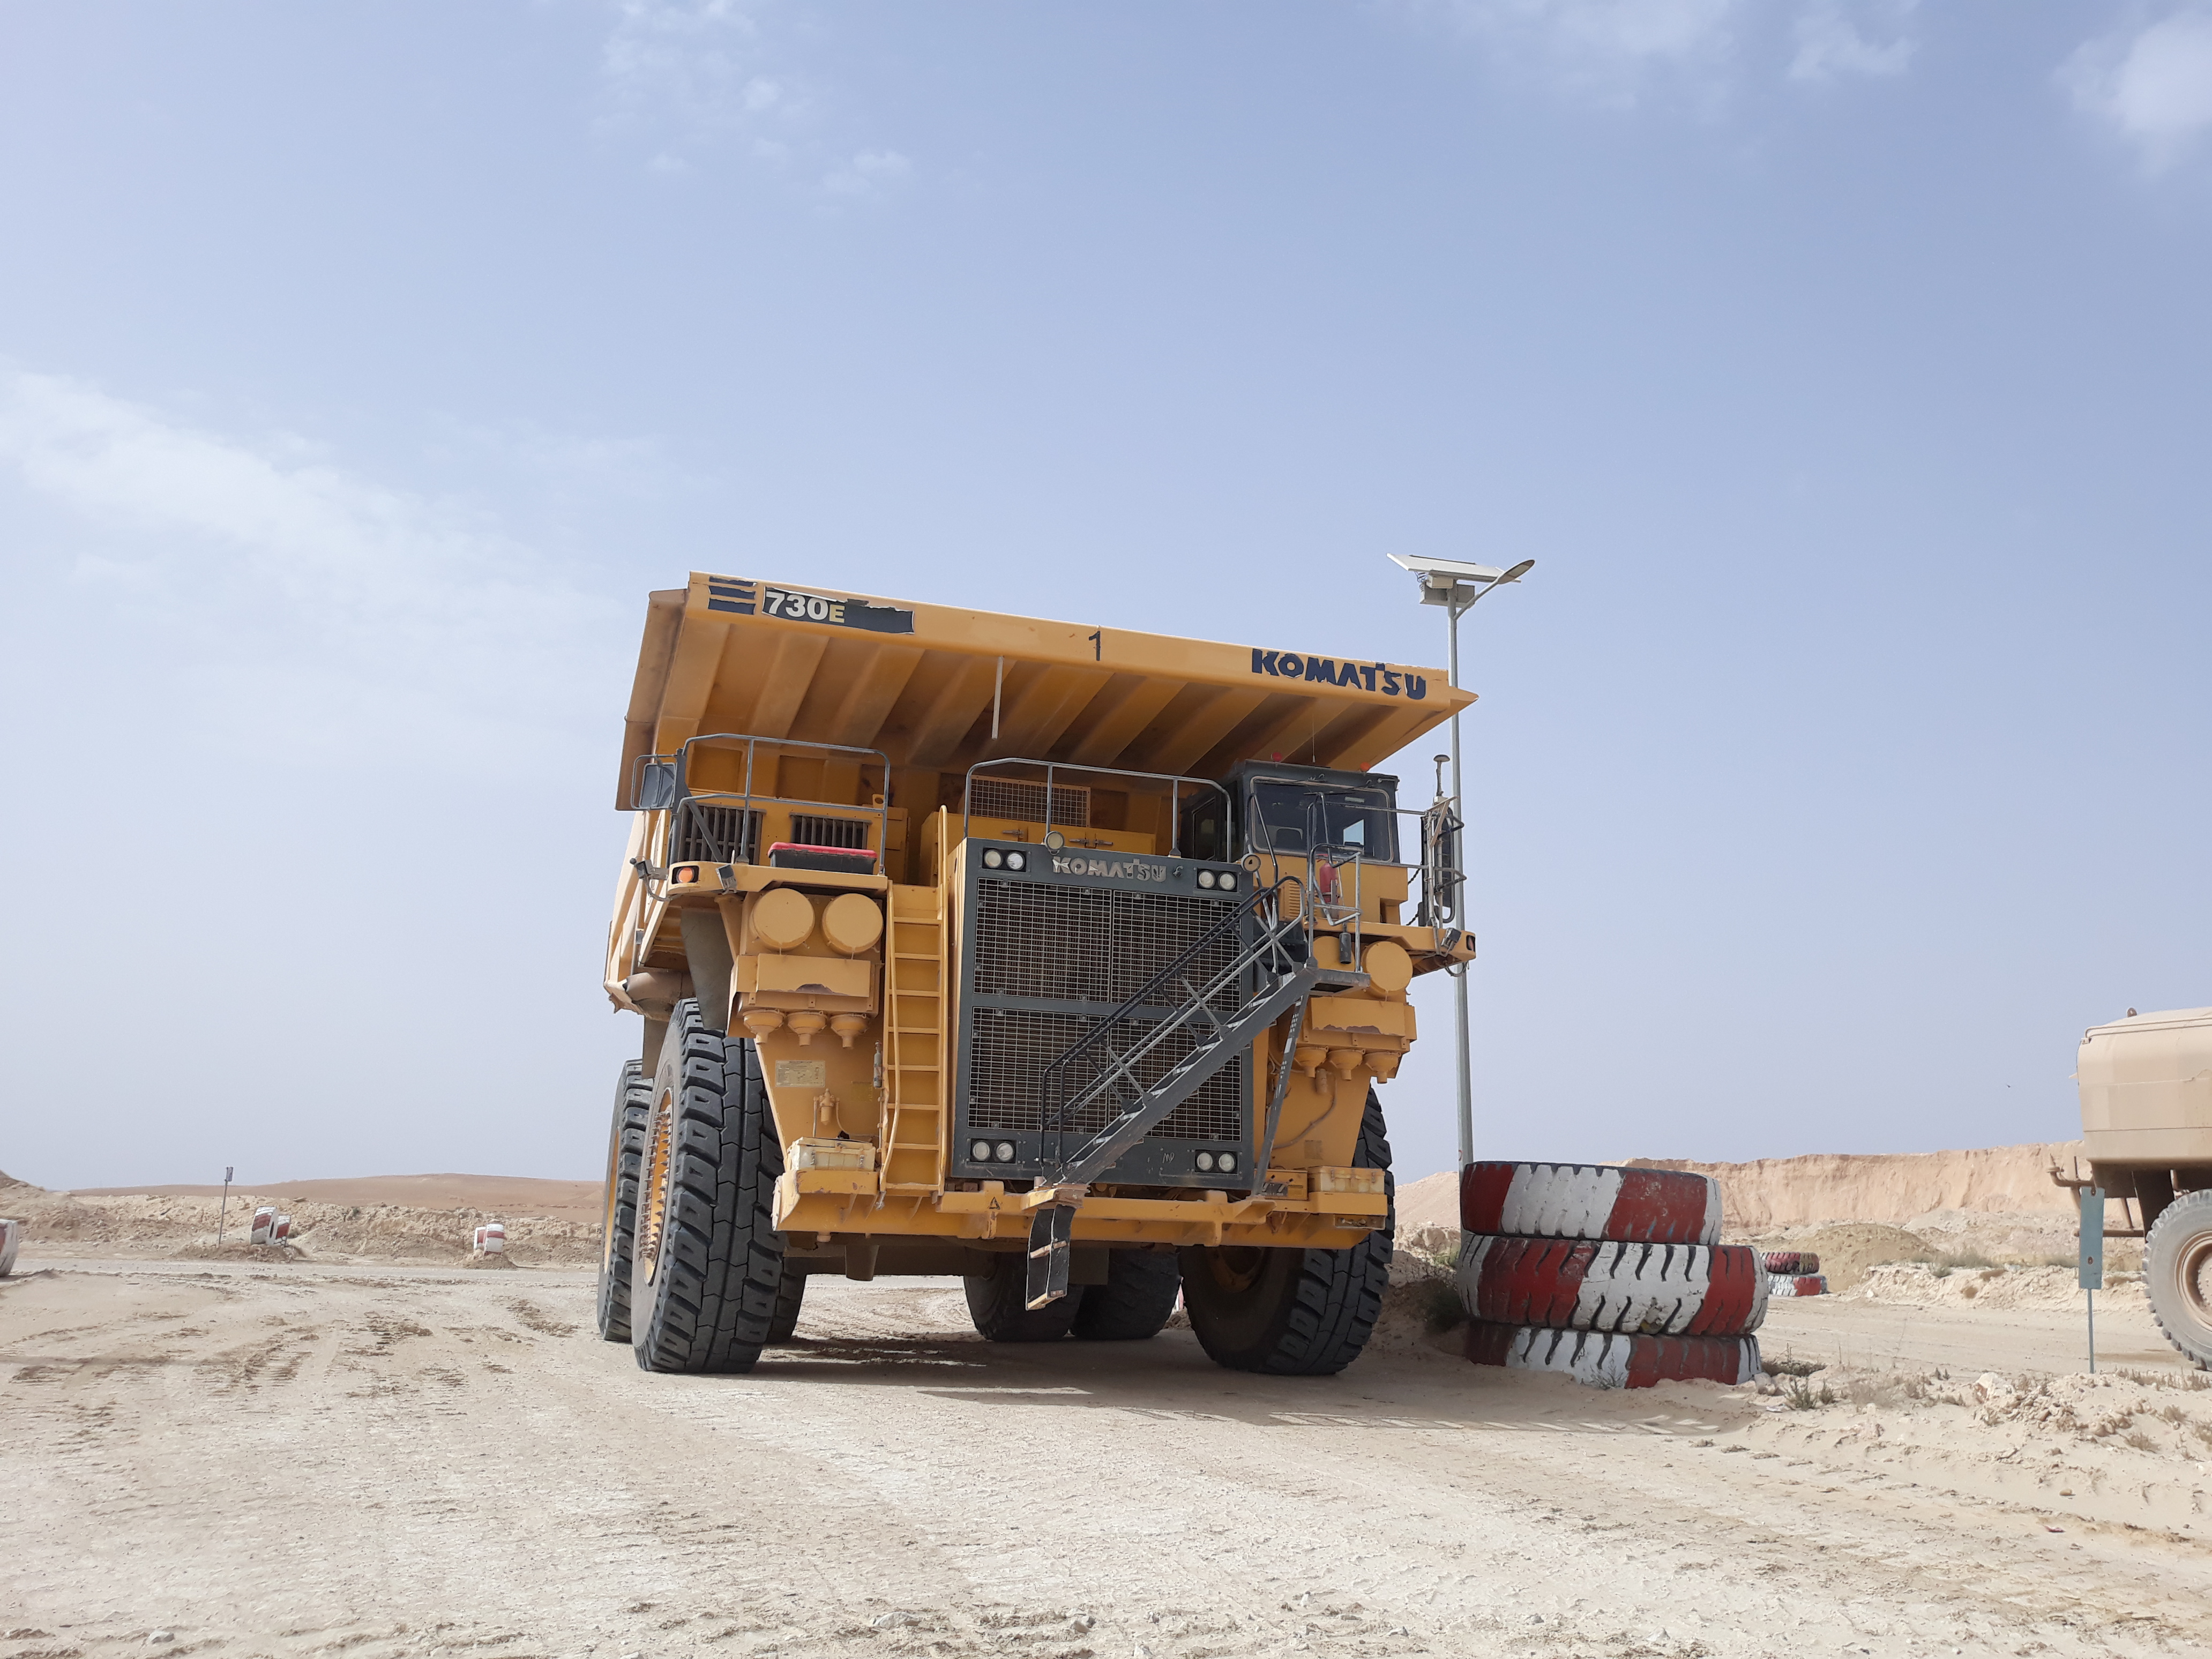camion: (502, 533, 1500, 1460)
